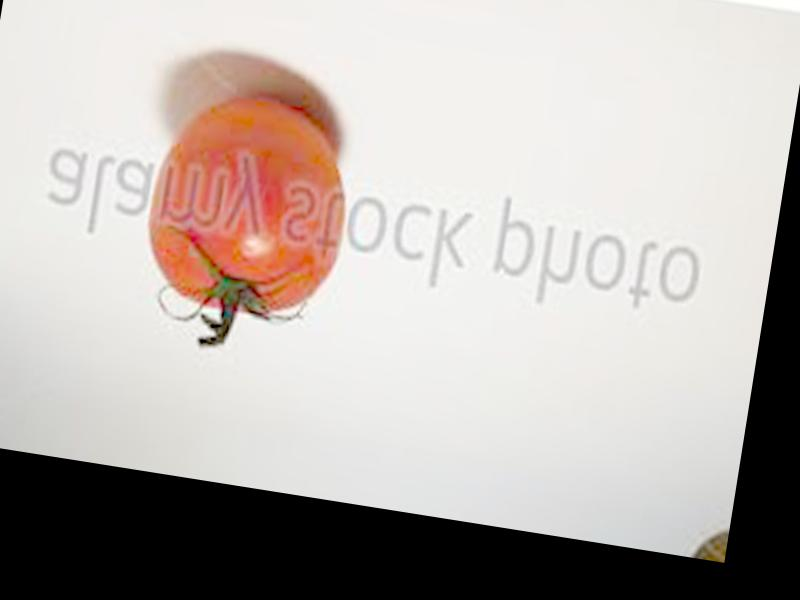Tomato: (136, 85, 362, 329)
